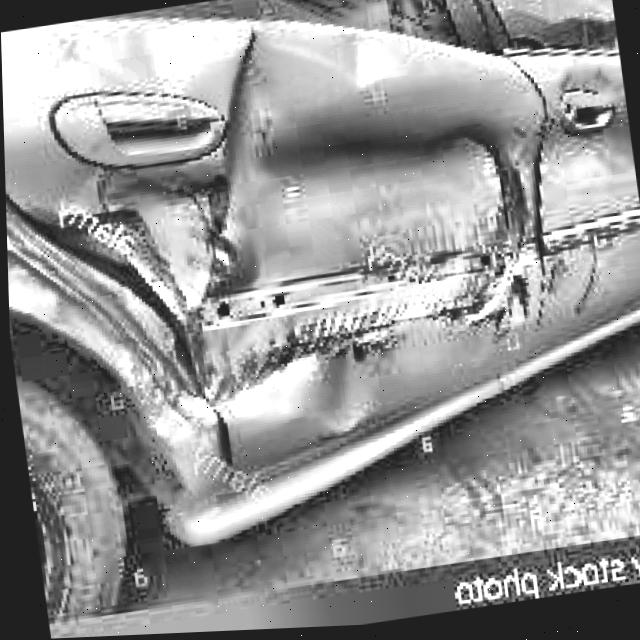door_dent: (101, 62, 570, 449)
door_scratch: (214, 225, 545, 383)
